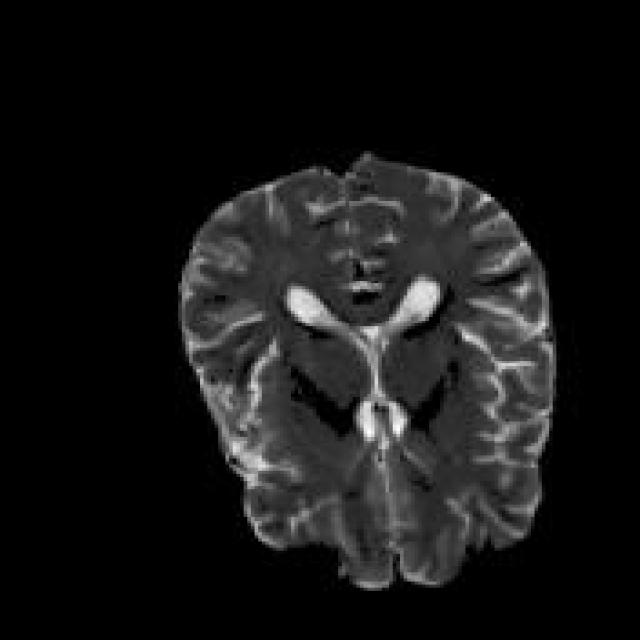parkinson: (174, 148, 556, 590)
